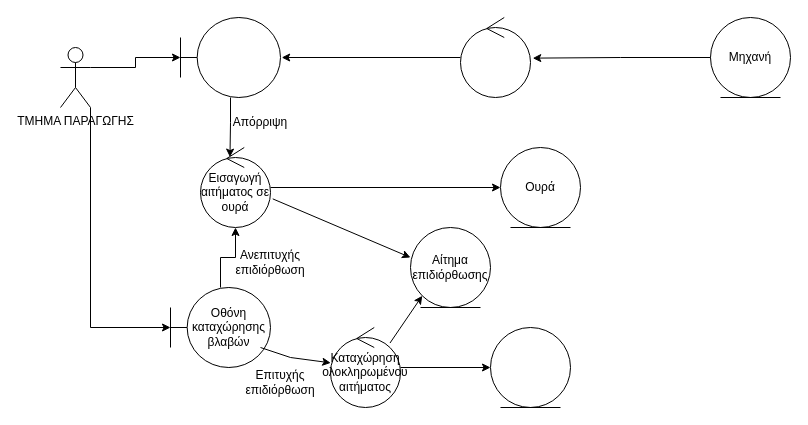
This 808x425 diagram has some shape labels left out. The box of each missing label's shape, as (x1, y1, x2, y2) in pixels:
Εμφάνιση μυνήματος βλάβης: (460, 16, 530, 98)
Οθόνη μυνήματος βλάβης: (180, 16, 280, 98)
Ολοκληρωμένες επιδιορθώσεις: (490, 326, 570, 408)
